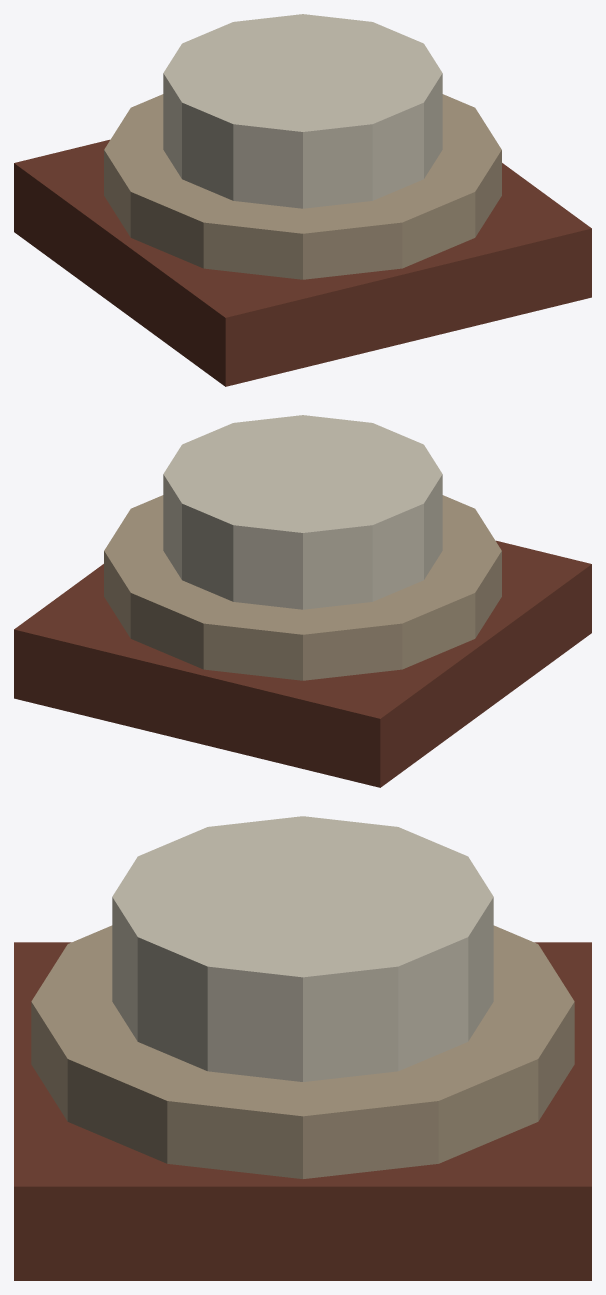
File: PierBase__Attic.fbx
3 renders of one model, top to bottom at view 1: azimuth 30°, elevation 25°; view 2: azimuth 150°, elevation 25°; view 3: azimuth 270°, elevation 25°, orthographic. The views are drawn at different scales.
Visible parts, largest first — view 1: PierBase__Attic; view 2: PierBase__Attic; view 3: PierBase__Attic.
Boxes of the visible parts, x1=… form: PierBase__Attic: x1=14, y1=14, x2=591, y2=386; PierBase__Attic: x1=14, y1=415, x2=591, y2=787; PierBase__Attic: x1=14, y1=816, x2=591, y2=1280.
Bounding box in the file's own units: 100 × 50 × 100.
Materials: 1 (1 with a texture image).
